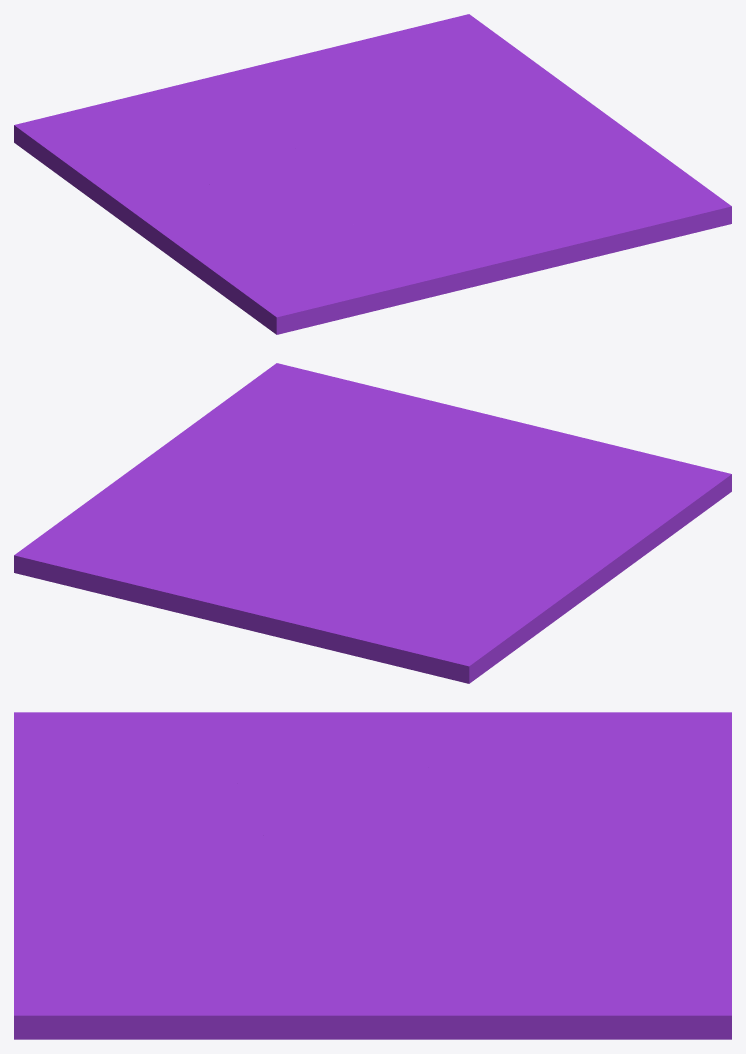
The model's file is Platform_50_chunks.fbx.
3 views of the same model, one above another, from view 1: azimuth 30°, elevation 25°; view 2: azimuth 150°, elevation 25°; view 3: azimuth 270°, elevation 25° (orthographic). The views are drawn at different scales.
Visible parts, largest first — view 1: Platform_50_1, Platform_50_0, Platform_50_6, Platform_50_2, Platform_50_4, Platform_50_8, Platform_50_3, Platform_50_5, Platform_50_7, Platform_50_9; view 2: Platform_50_0, Platform_50_1, Platform_50_6, Platform_50_2, Platform_50_3, Platform_50_4, Platform_50_8, Platform_50_5, Platform_50_7, Platform_50_9; view 3: Platform_50_1, Platform_50_0, Platform_50_6, Platform_50_4, Platform_50_3, Platform_50_8, Platform_50_2, Platform_50_5, Platform_50_7, Platform_50_9.
Part boxes in pixels (<box>): Platform_50_1: <box>370,103,731,264</box>; Platform_50_0: <box>222,14,590,160</box>; Platform_50_6: <box>179,242,449,334</box>; Platform_50_2: <box>14,106,168,254</box>; Platform_50_4: <box>163,143,372,260</box>; Platform_50_8: <box>355,181,562,292</box>; Platform_50_3: <box>92,74,341,154</box>; Platform_50_5: <box>144,126,236,232</box>; Platform_50_7: <box>176,172,390,263</box>; Platform_50_9: <box>211,224,372,244</box>; Platform_50_0: <box>14,466,361,636</box>; Platform_50_1: <box>136,363,466,517</box>; Platform_50_6: <box>530,433,731,562</box>; Platform_50_2: <box>383,557,623,683</box>; Platform_50_3: <box>261,537,418,662</box>; Platform_50_4: <box>342,512,639,570</box>; Platform_50_8: <box>397,409,564,500</box>; Platform_50_5: <box>405,557,615,618</box>; Platform_50_7: <box>387,492,635,564</box>; Platform_50_9: <box>501,476,615,534</box>; Platform_50_1: <box>14,858,397,1039</box>; Platform_50_0: <box>370,851,731,1039</box>; Platform_50_6: <box>14,712,269,823</box>; Platform_50_4: <box>265,712,494,867</box>; Platform_50_3: <box>457,764,731,864</box>; Platform_50_8: <box>14,811,315,888</box>; Platform_50_2: <box>326,712,731,776</box>; Platform_50_5: <box>327,713,640,803</box>; Platform_50_7: <box>222,720,356,861</box>; Platform_50_9: <box>159,728,263,815</box>.
Bounding box in the file's own units: 810 × 29.87 × 810.
